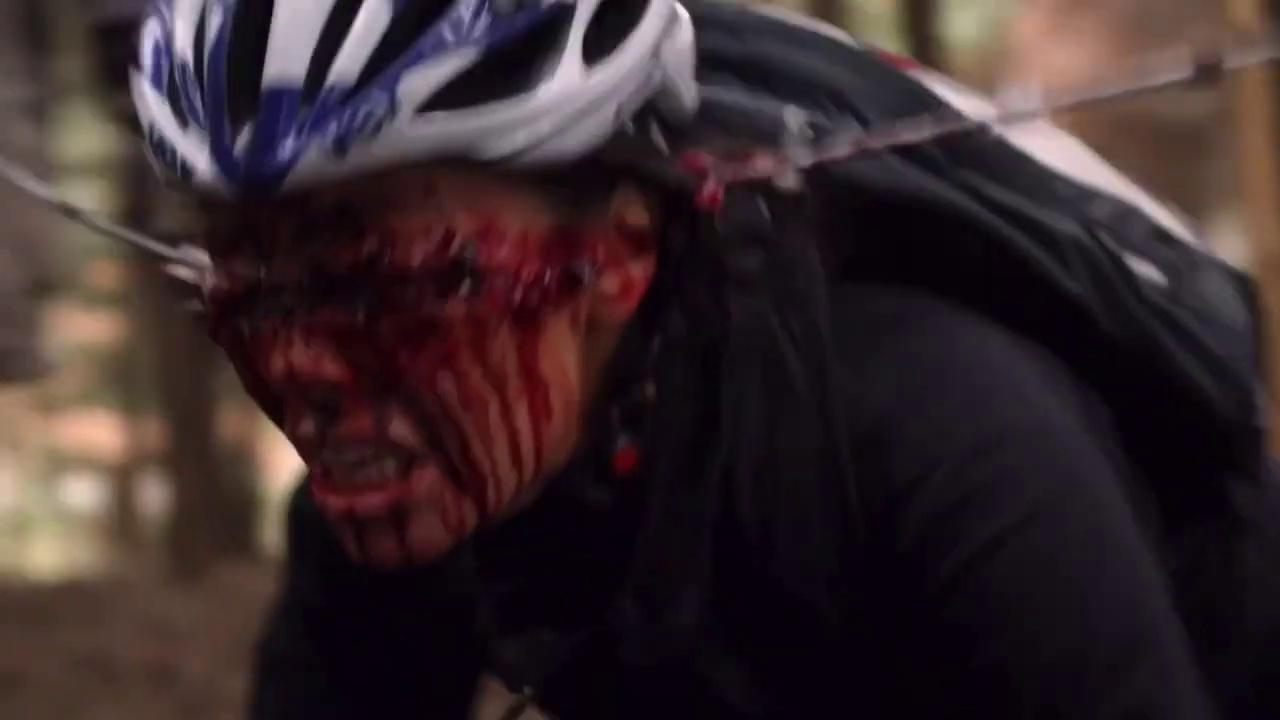Fire: (206, 164, 657, 570)
